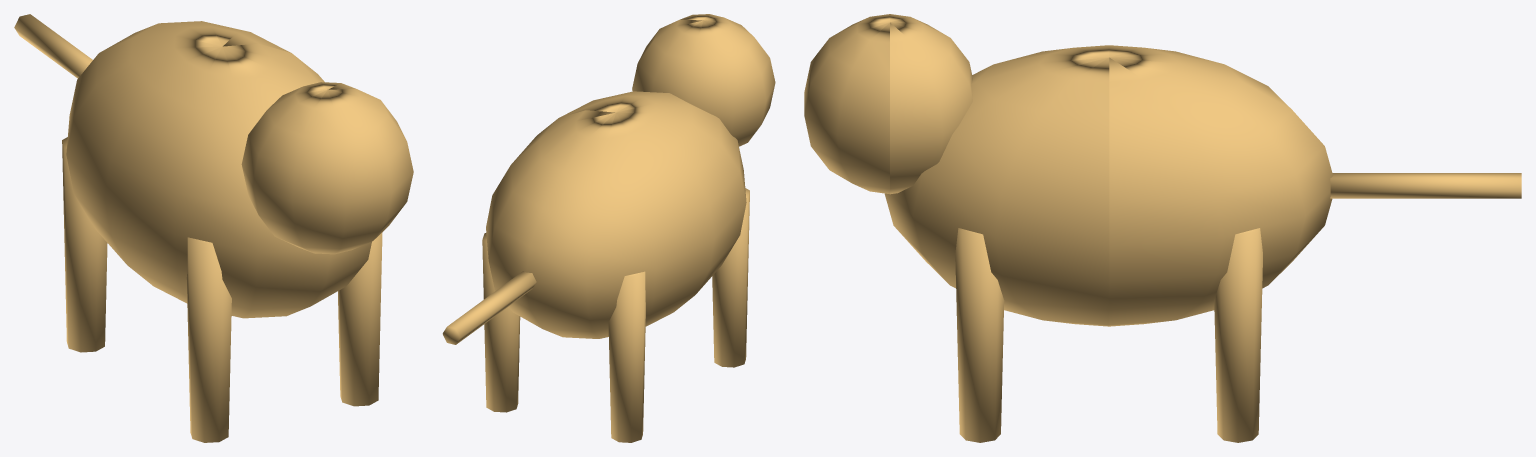
The model's file is 53121b52-09c9-43e5-abc3-3b82937250b9.glb.
3 views of the same model, side by side, from view 1: azimuth 30°, elevation 25°; view 2: azimuth 150°, elevation 25°; view 3: azimuth 270°, elevation 25° (orthographic). The views are drawn at different scales.
Parts seen in each view (by area): view 1: Generated3DMesh; view 2: Generated3DMesh; view 3: Generated3DMesh.
Part boxes in pixels (x1,y1,x2,y2): Generated3DMesh: (14,14,413,442); Generated3DMesh: (442,14,775,442); Generated3DMesh: (804,14,1521,442).
Bounding box in the file's own units: 1.1 × 1.6 × 2.78.
